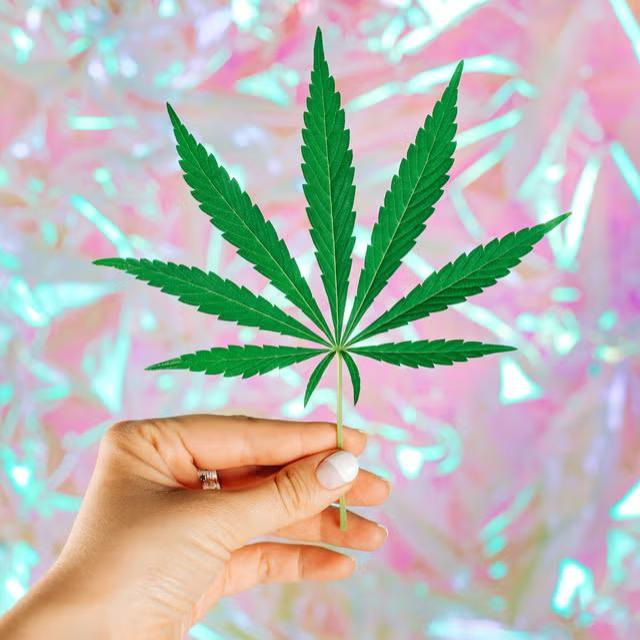cannabis: (95, 25, 572, 451)
